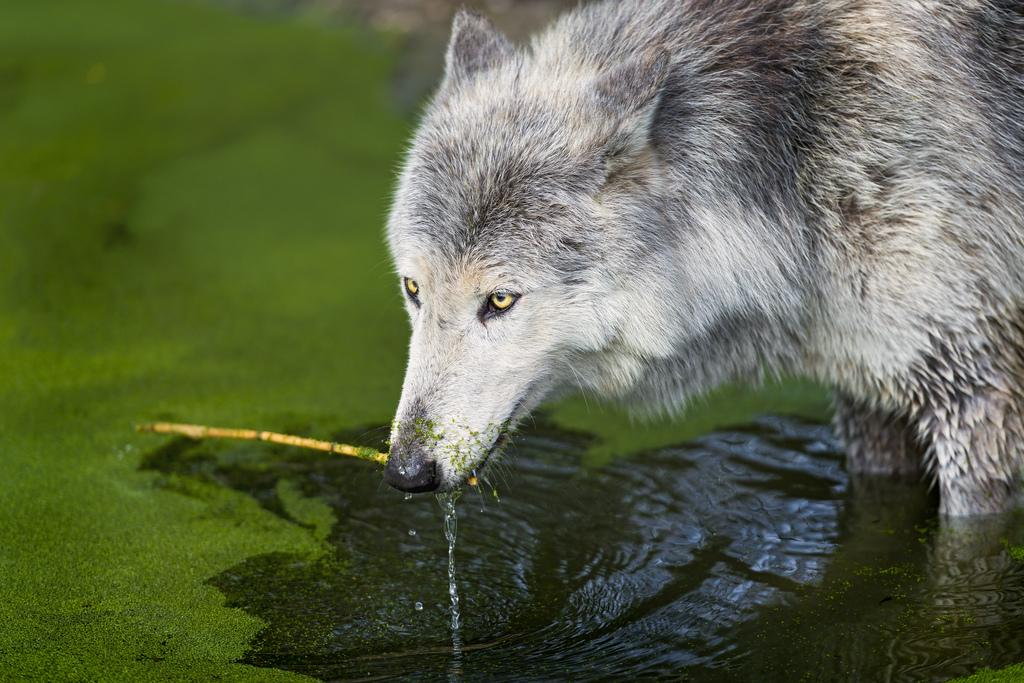Wolf: (393, 7, 1024, 629)
